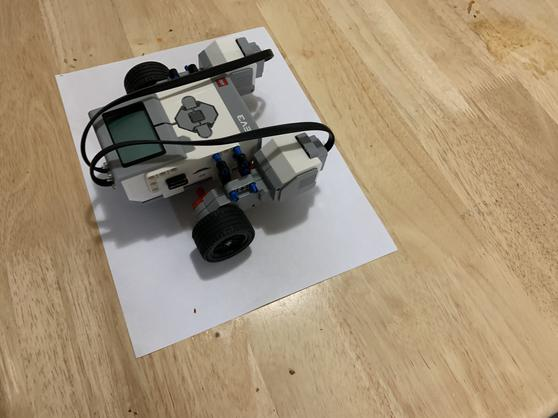robot: (77, 34, 337, 266)
